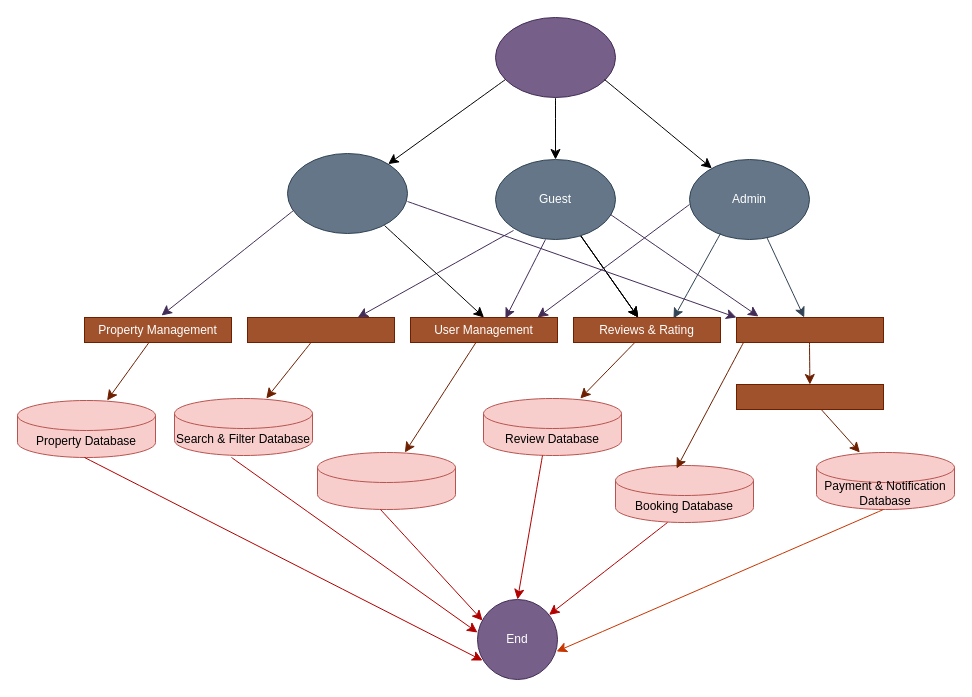
Image size: 972x697. Some labels were removed from this diagram. The shapes that lost their labels are listed below. From the top down, each one's box as (x1, y1, x2, y2) in pixels, then its label:
(494, 16, 616, 98): Start
(286, 152, 408, 234): Host
(246, 316, 394, 342): Search & Filter
(736, 316, 884, 342): Booking Management
(736, 384, 884, 410): Payment & Notification
(316, 452, 456, 510): User Database
